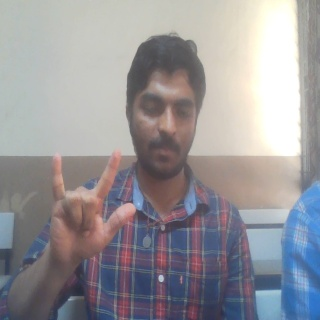Face: (124, 31, 208, 184)
I Love You: (46, 146, 138, 265)
